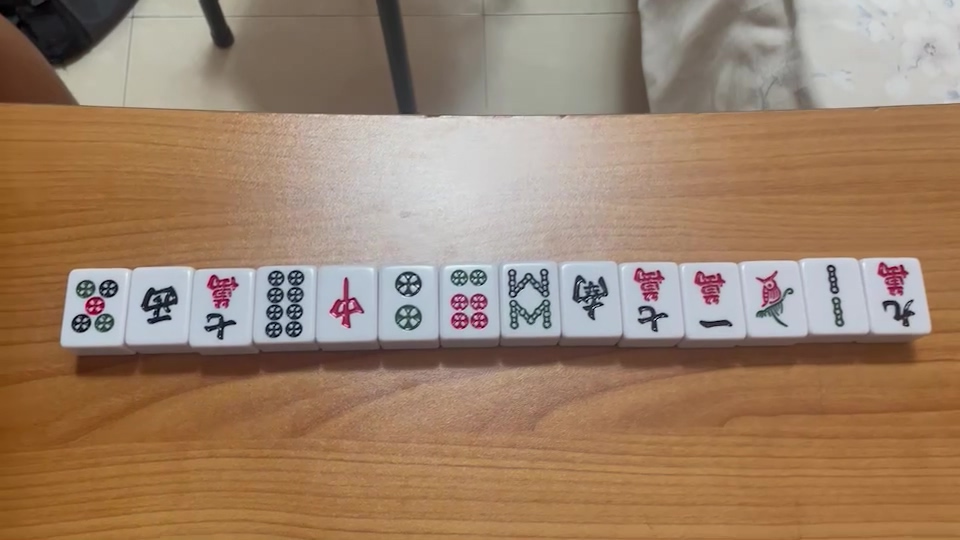b-1: (756, 269, 798, 328)
b-2: (822, 261, 853, 332)
b-8: (504, 264, 555, 333)
c-1: (689, 268, 735, 336)
c-7: (198, 274, 243, 346), (627, 265, 671, 333)
c-9: (874, 261, 920, 331)
d-2: (388, 271, 427, 333)
d-5: (66, 278, 121, 337), (137, 285, 178, 325)
d-6: (446, 267, 489, 332)
d-8: (261, 269, 310, 341)
honors-red: (325, 276, 365, 335)
honors-south: (565, 272, 610, 322)
